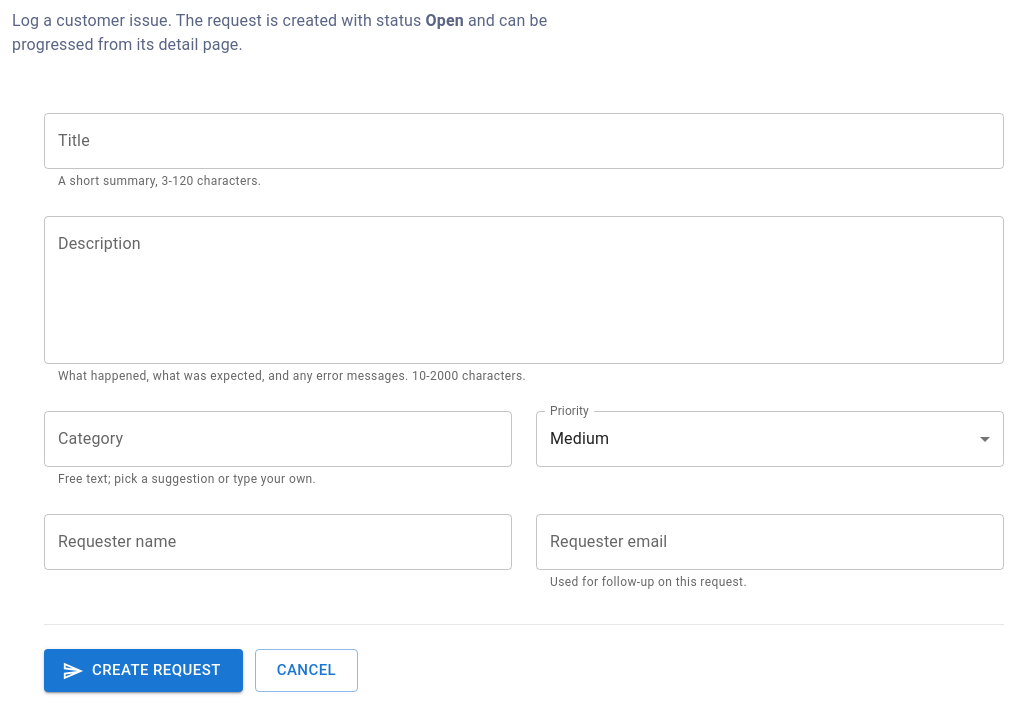
NewRequestPage › rejects an empty submission with per-field messages
(page scrolled)
Click the button "Create request".
click(143, 671)  # box [44, 649, 243, 692]
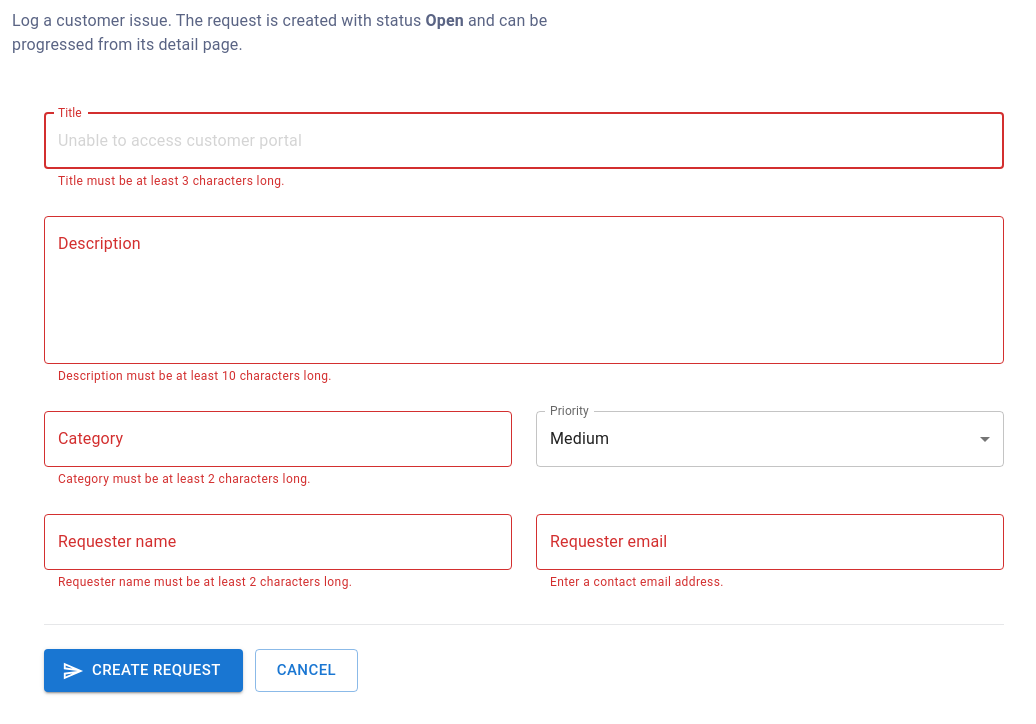
Expected: the text "Title must be at least 3 characters long." is shown, [58, 174, 285, 188]
Expected: the text "Description must be at least 10 characters long." is shown, [58, 369, 332, 383]
Expected: the text "Category must be at least 2 characters long." is shown, [58, 472, 311, 486]
